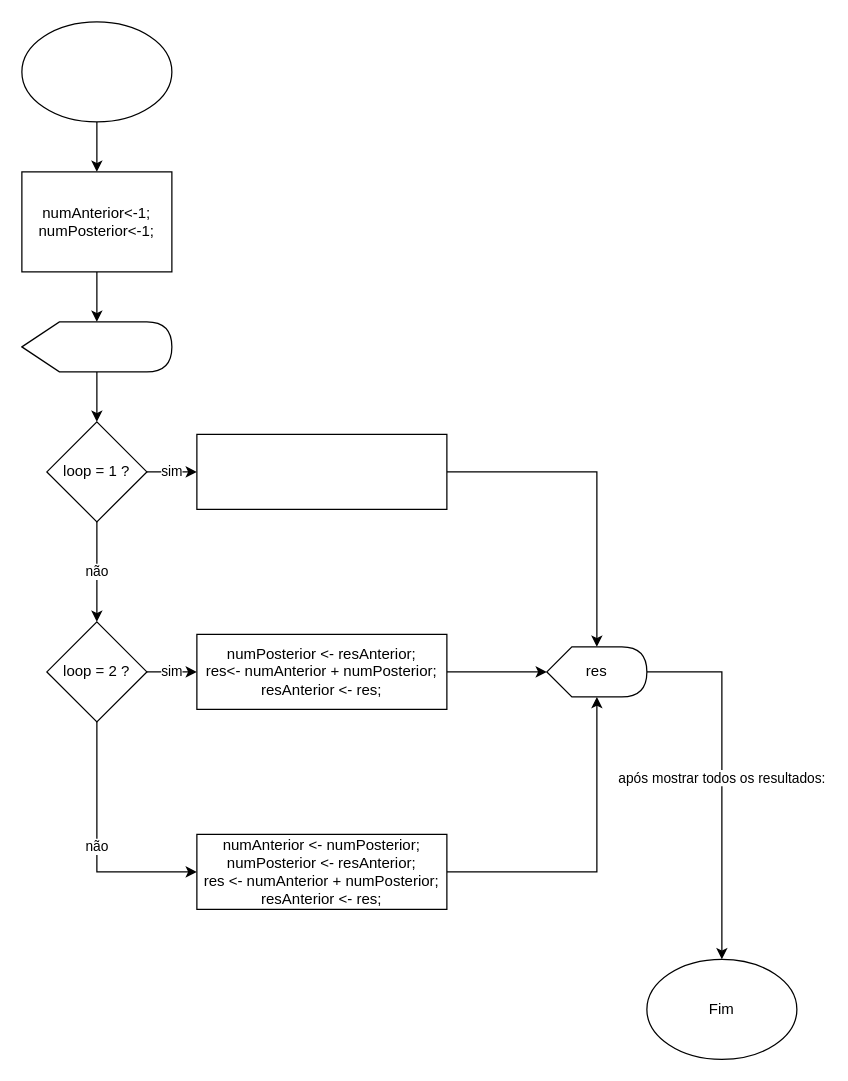
Some shapes in this 848 by 1081 pixel diagram are drawn without their labels. Here are the shapes that lost their labels. From the top down, the centre of each, then its label:
At pixel 96 71: "Início".
At pixel 96 346: "numAnterior, numPosterior".
At pixel 321 471: "res <- numAnterior + numPosterior; resAnterior <- res;".
